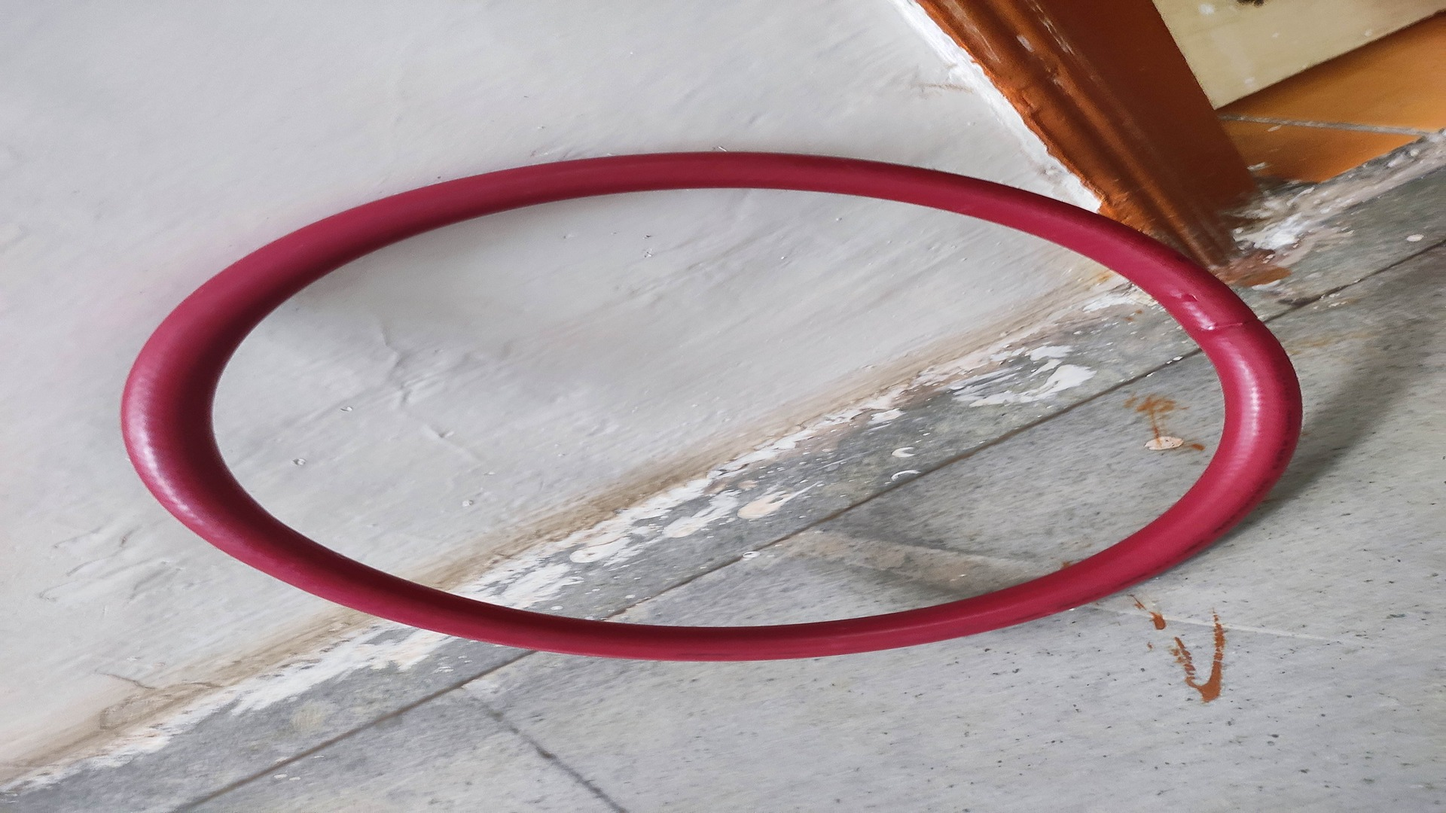Red ring: (118, 148, 1301, 662)
